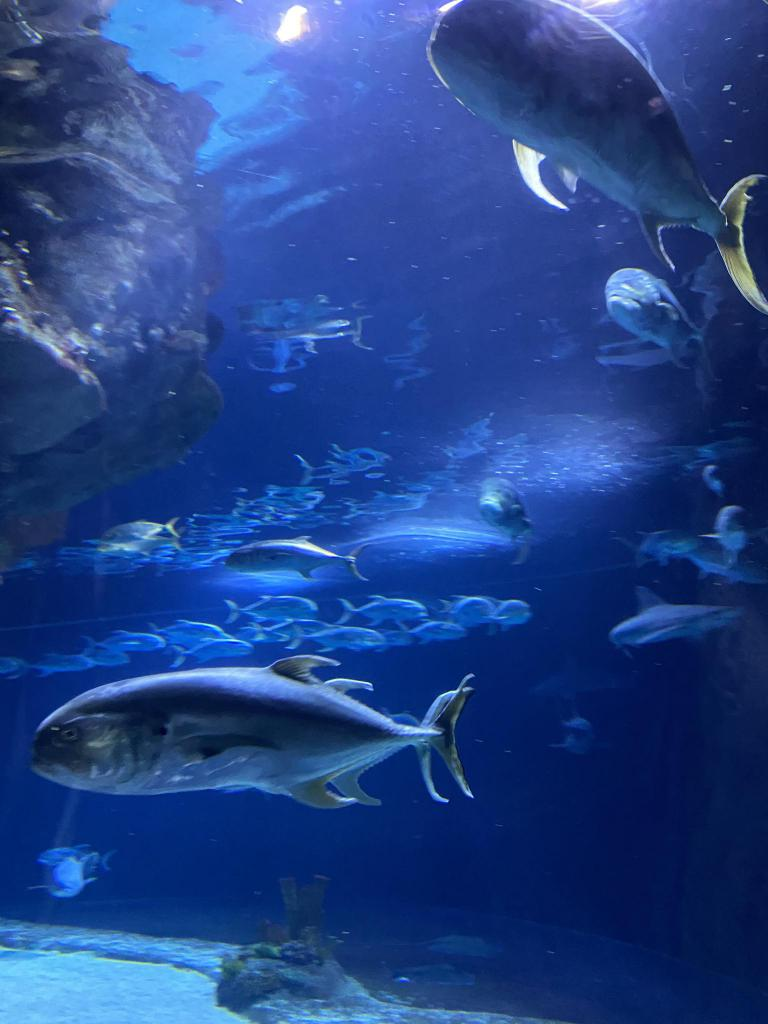fish: (428, 0, 768, 316), (27, 652, 476, 808), (605, 267, 711, 369), (224, 535, 372, 581), (480, 475, 534, 547), (96, 518, 184, 556), (612, 532, 700, 566), (286, 624, 384, 654), (701, 507, 767, 551), (337, 595, 427, 627), (28, 856, 97, 896), (168, 636, 252, 668), (224, 596, 316, 622), (38, 844, 116, 870), (79, 630, 165, 652), (146, 620, 224, 644), (440, 595, 494, 627), (395, 620, 466, 644), (26, 654, 92, 674), (492, 600, 532, 630), (360, 630, 412, 650), (234, 626, 286, 644), (80, 652, 128, 666), (0, 656, 24, 674)
shark: (608, 584, 742, 658), (530, 653, 634, 699), (549, 706, 611, 754)
stingray: (389, 964, 475, 986)
